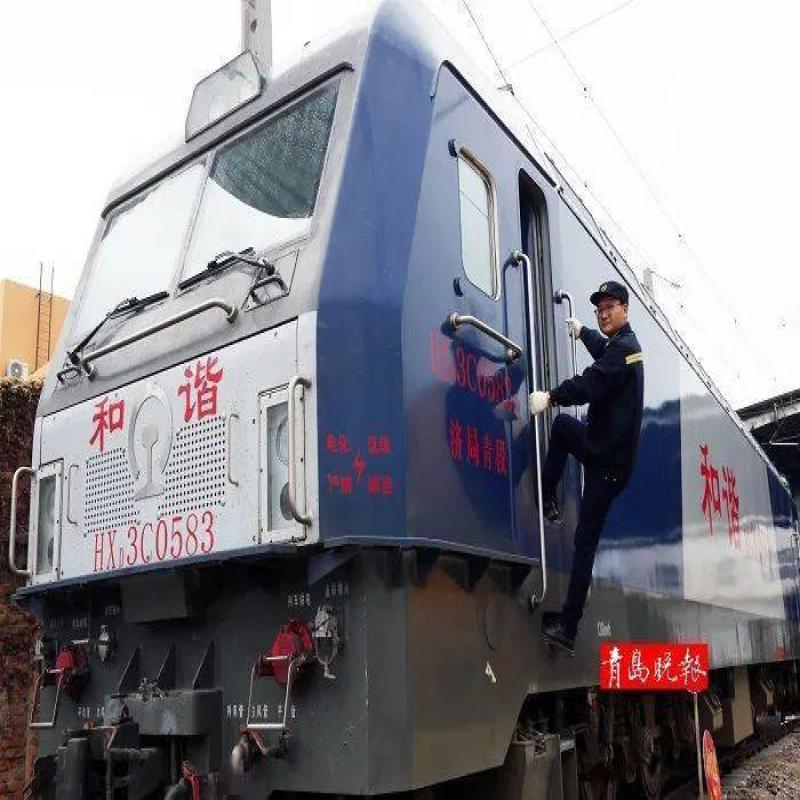train: (74, 170, 770, 745)
